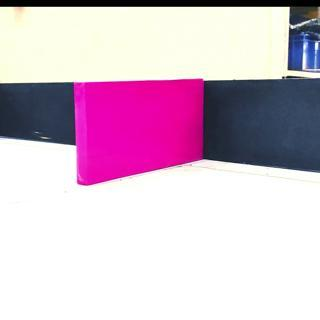xparking: (73, 80, 201, 161)
